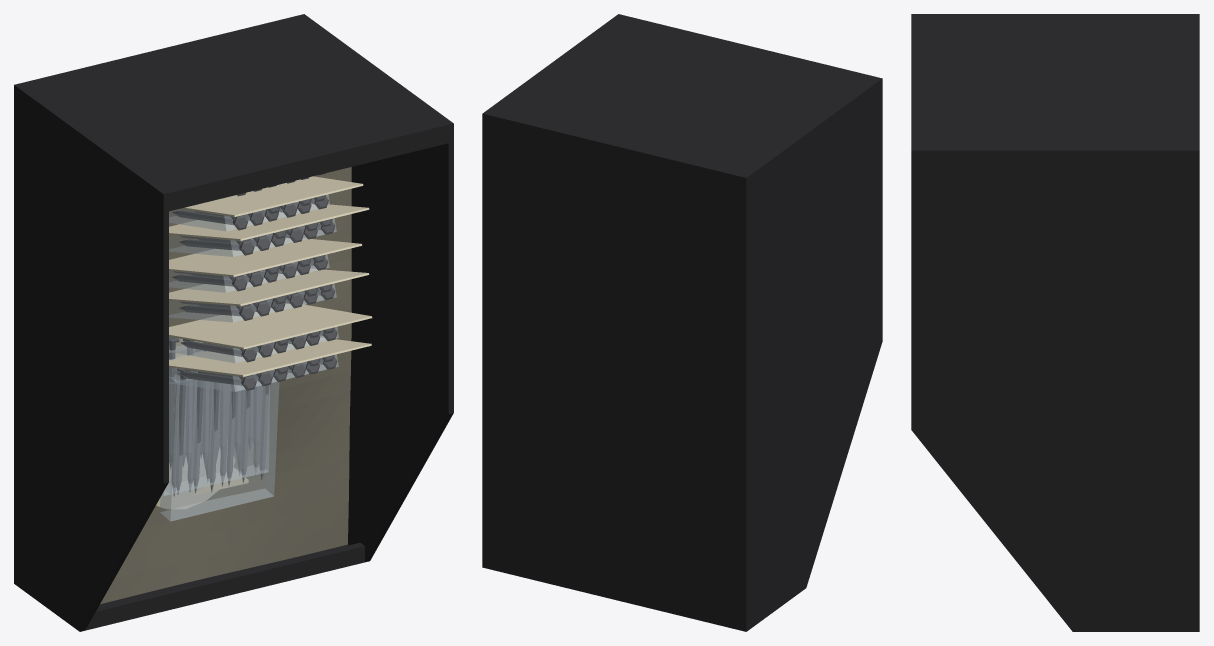
Rendered from bin_pacotes_de_pregos.obj.
3 views of the same model, side by side, from view 1: azimuth 30°, elevation 25°; view 2: azimuth 150°, elevation 25°; view 3: azimuth 270°, elevation 25° (orthographic). The views are drawn at different scales.
Visible parts, largest first — view 1: bin_pacotes_de_pregos_plastico_bin, bin_pacotes_de_pregos_massa_monte_pacotes_de_pregos, bin_pacotes_de_pregos_papel_blister, bin_pacotes_de_pregos_pet_transparente, bin_pacotes_de_pregos_aco_escuro; view 2: bin_pacotes_de_pregos_plastico_bin; view 3: bin_pacotes_de_pregos_plastico_bin.
Part boxes in pixels (left/top/right/bottom): bin_pacotes_de_pregos_plastico_bin: left=14, top=14, right=453, bottom=631; bin_pacotes_de_pregos_massa_monte_pacotes_de_pregos: left=100, top=167, right=351, bottom=604; bin_pacotes_de_pregos_papel_blister: left=156, top=176, right=372, bottom=508; bin_pacotes_de_pregos_pet_transparente: left=160, top=194, right=338, bottom=521; bin_pacotes_de_pregos_aco_escuro: left=169, top=173, right=337, bottom=496; bin_pacotes_de_pregos_plastico_bin: left=482, top=14, right=882, bottom=631; bin_pacotes_de_pregos_plastico_bin: left=911, top=14, right=1199, bottom=631.
Size of the model in its own units: 140 by 230 by 125.
